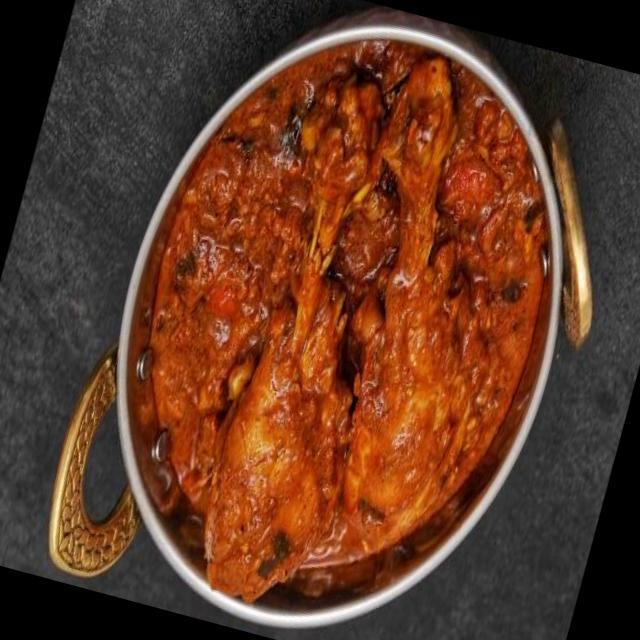chicken: (47, 0, 629, 640)
